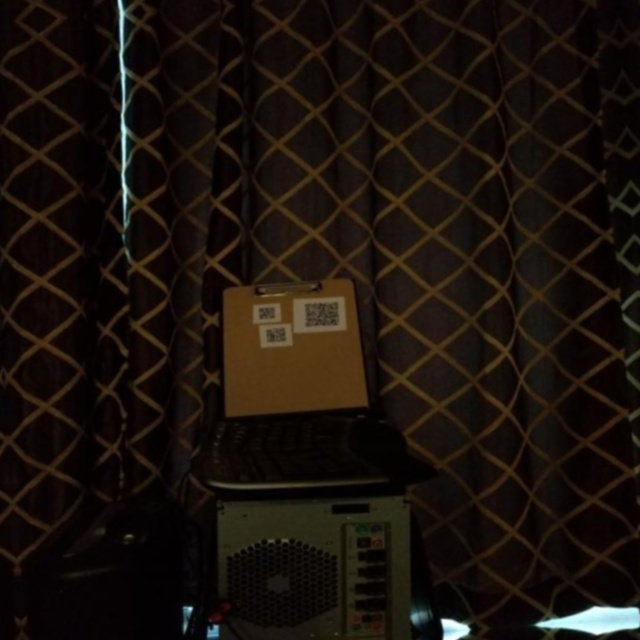qr-code: (299, 296, 346, 333), (253, 325, 291, 351), (252, 301, 280, 323)
